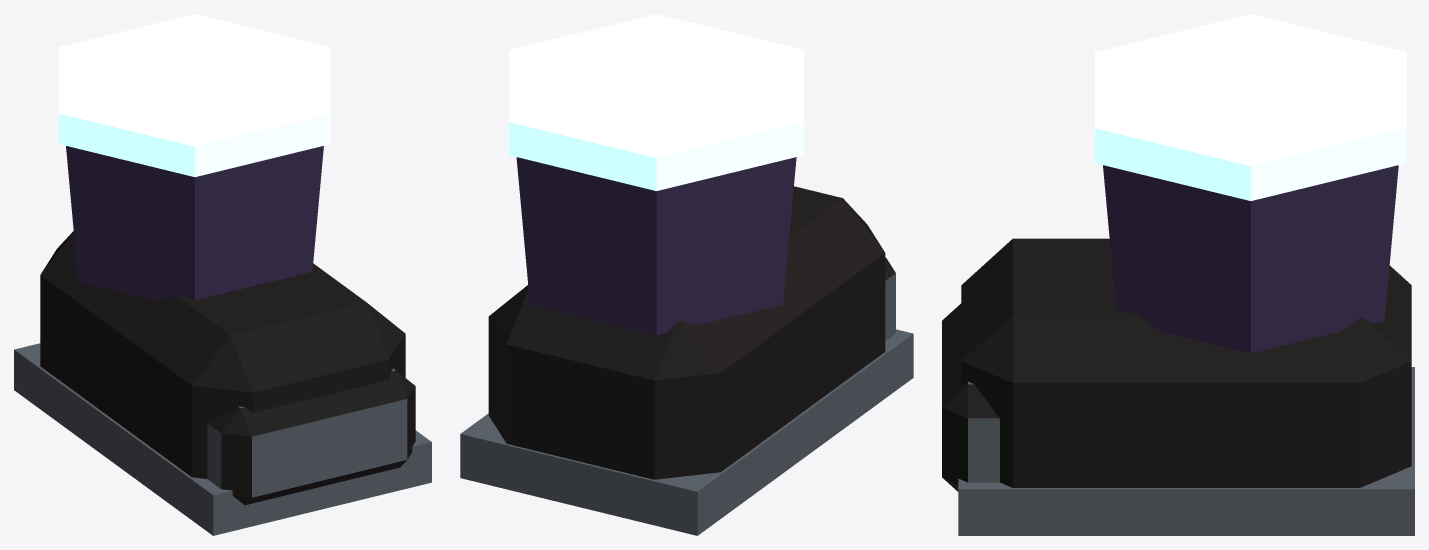
Rendered from shadow_treads.glb.
The picture shows the model from 3 angles, left to right: view 1: azimuth 30°, elevation 25°; view 2: azimuth 150°, elevation 25°; view 3: azimuth 270°, elevation 25°; orthographic projection. The views are drawn at different scales.
Visible parts, largest first — view 1: shadow_treads; view 2: shadow_treads; view 3: shadow_treads.
Part boxes in pixels (x1,y1,x2,y2): shadow_treads: [14, 14, 431, 535]; shadow_treads: [460, 14, 913, 535]; shadow_treads: [942, 14, 1414, 535].
Size of the model in its own units: 0.28 by 0.33 by 0.3675.
